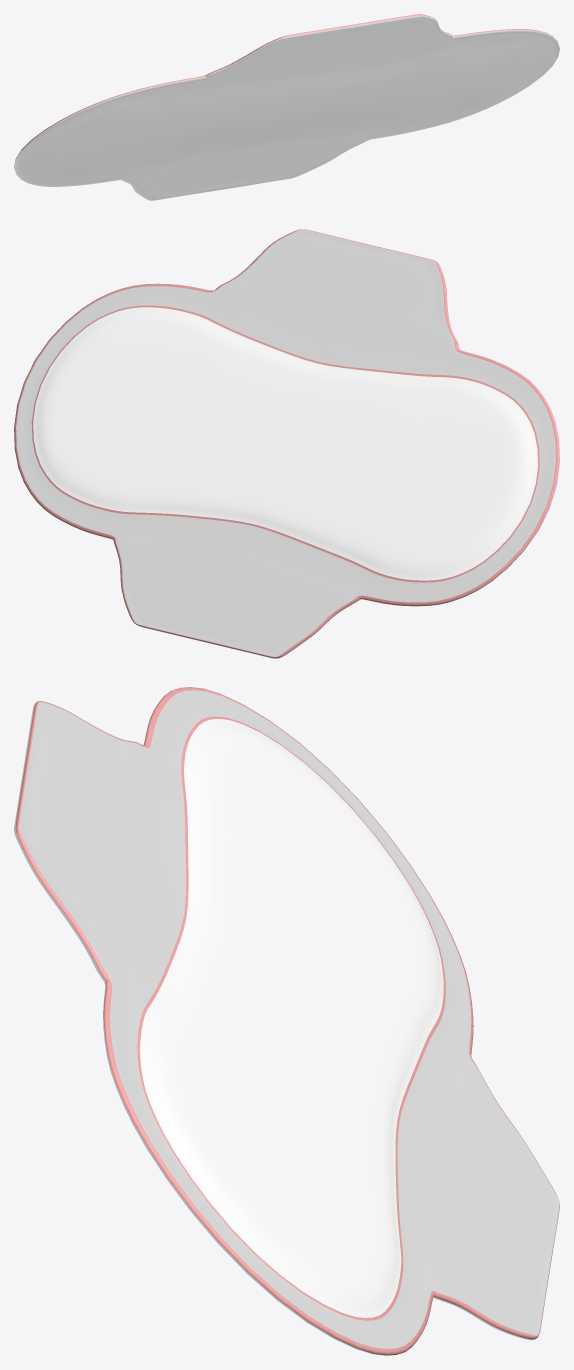
File: pad 3d model.glb
3 renders of one model, top to bottom at view 1: azimuth 30°, elevation 25°; view 2: azimuth 150°, elevation 25°; view 3: azimuth 270°, elevation 25°, orthographic. The views are drawn at different scales.
Visible parts, largest first — view 1: pad-b; view 2: pad-b; view 3: pad-b.
Part boxes in pixels (left/top/right/bottom): pad-b: left=14, top=14, right=559, bottom=200; pad-b: left=14, top=229, right=559, bottom=658; pad-b: left=14, top=687, right=559, bottom=1355.
Bounding box in the file's own units: 2.89 × 1.49 × 1.45.
